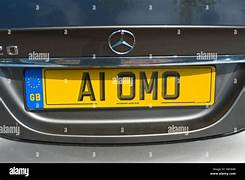number_plate: (24, 67, 215, 106)
